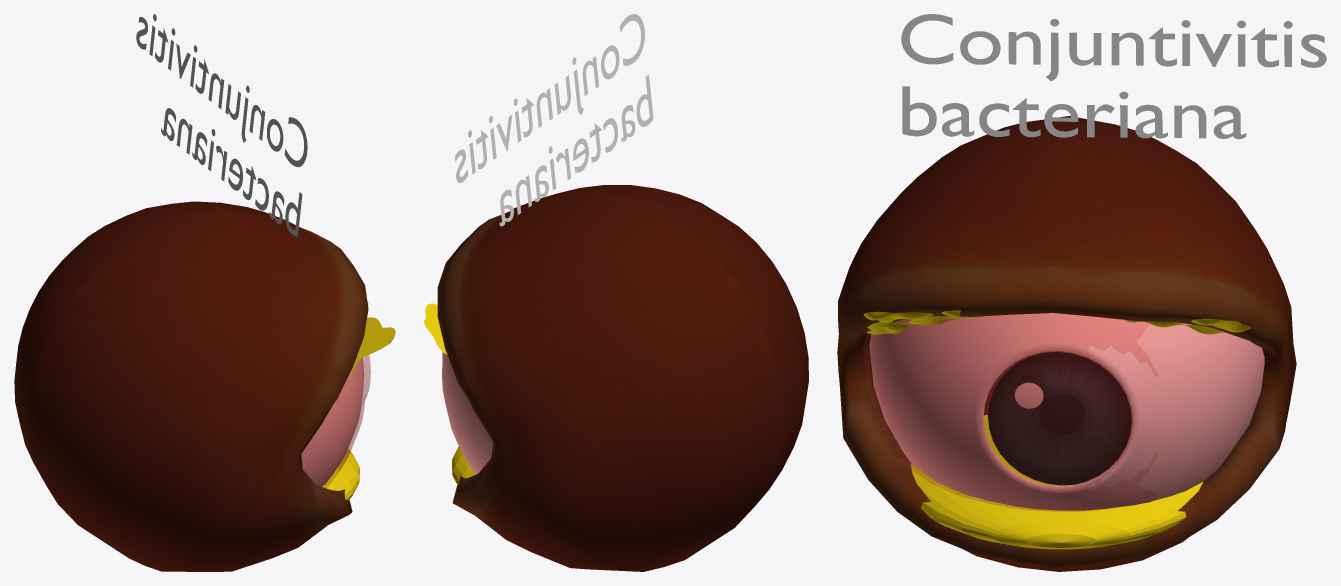
The model's file is ModeloOjoConjuntivitis.fbx.
3 views of the same model, side by side, from view 1: azimuth 30°, elevation 25°; view 2: azimuth 150°, elevation 25°; view 3: azimuth 270°, elevation 25° (orthographic). The views are drawn at different scales.
Parts seen in each view (by area): view 1: Ojo_Conjuntivitis_Part3, Conjuntivitis_Texto, Ojo_Conjuntivitis_Part1, Ojo_Conjuntivitis_Part4, Mucosa_3, Mucosa1.Object1; view 2: Ojo_Conjuntivitis_Part3, Conjuntivitis_Texto, Ojo_Conjuntivitis_Part4, Mucosa2.Object2, Mucosa_3; view 3: Ojo_Conjuntivitis_Part3, Ojo_Conjuntivitis_Part4, Ojo_Conjuntivitis_Part1, Ojo_Conjuntivitis_Part2, Conjuntivitis_Texto, Mucosa_3, Mucosa1.Object1, Mucosa2.Object2.
Boxes of the visible parts, x1,y1,x2,y2 form: Ojo_Conjuntivitis_Part3: (14,201,368,571); Conjuntivitis_Texto: (136,14,307,236); Ojo_Conjuntivitis_Part1: (301,355,370,487); Ojo_Conjuntivitis_Part4: (301,358,363,486); Mucosa_3: (322,448,359,500); Mucosa1.Object1: (347,301,395,379); Ojo_Conjuntivitis_Part3: (437,185,808,571); Conjuntivitis_Texto: (455,14,653,226); Ojo_Conjuntivitis_Part4: (441,353,492,474); Mucosa2.Object2: (424,303,447,354); Mucosa_3: (452,446,475,485); Ojo_Conjuntivitis_Part3: (837,116,1296,571); Ojo_Conjuntivitis_Part4: (869,313,1264,510); Ojo_Conjuntivitis_Part1: (863,313,1158,511); Ojo_Conjuntivitis_Part2: (988,351,1131,485); Conjuntivitis_Texto: (901,14,1326,139); Mucosa_3: (901,415,1202,549); Mucosa1.Object1: (863,310,983,334); Mucosa2.Object2: (1125,318,1250,334).
Size of the model in its own units: 218 by 308 by 244.
